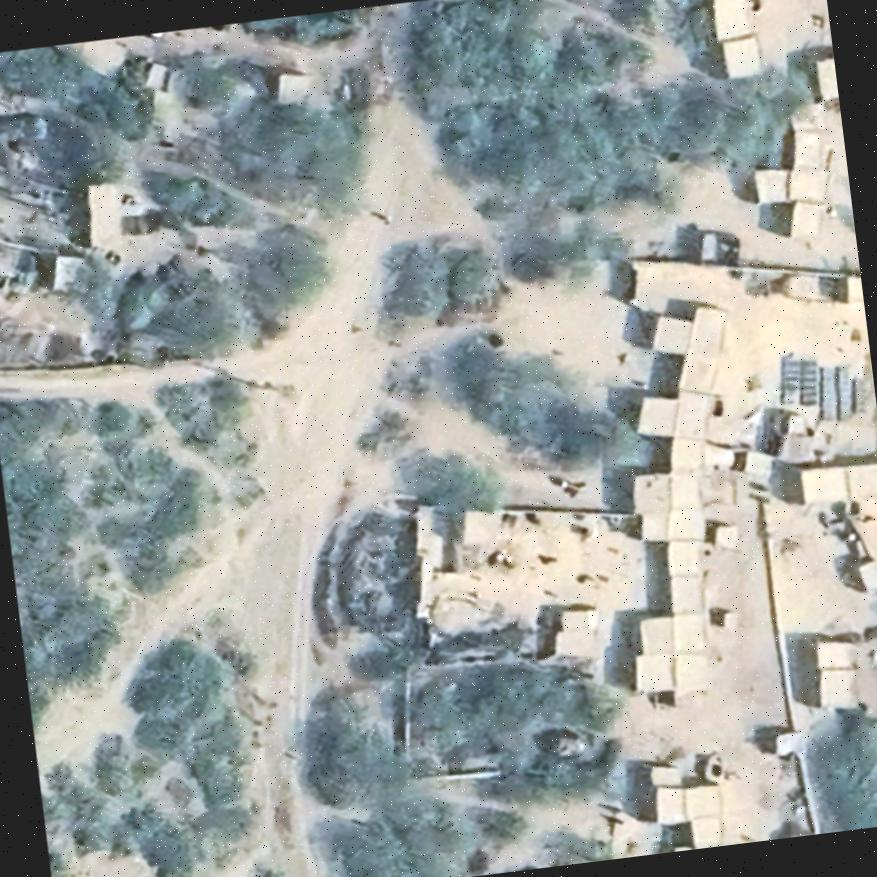Solarpanel: (820, 363, 857, 418), (778, 355, 819, 404)
